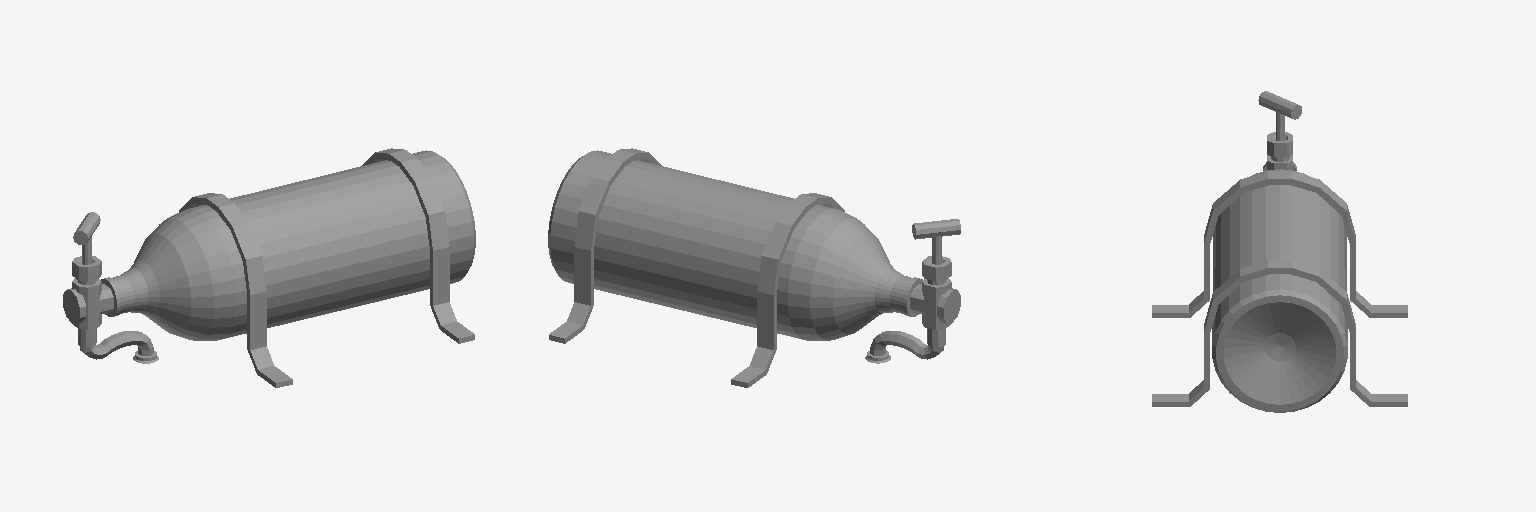
3 renders of one model, left to right at view 1: azimuth 30°, elevation 25°; view 2: azimuth 150°, elevation 25°; view 3: azimuth 270°, elevation 25°, orthographic.
Parts seen in each view (by area): view 1: g_can_g_g.003; view 2: g_can_g_g.003; view 3: g_can_g_g.003.
Part boxes in pixels (bbox=[...]): g_can_g_g.003: bbox=[63, 148, 475, 387]; g_can_g_g.003: bbox=[548, 148, 960, 387]; g_can_g_g.003: bbox=[1152, 91, 1407, 412].
Bounding box in the file's own units: 0.6797 × 0.26 × 0.4.